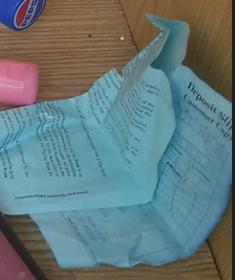paper: (0, 14, 234, 270)
